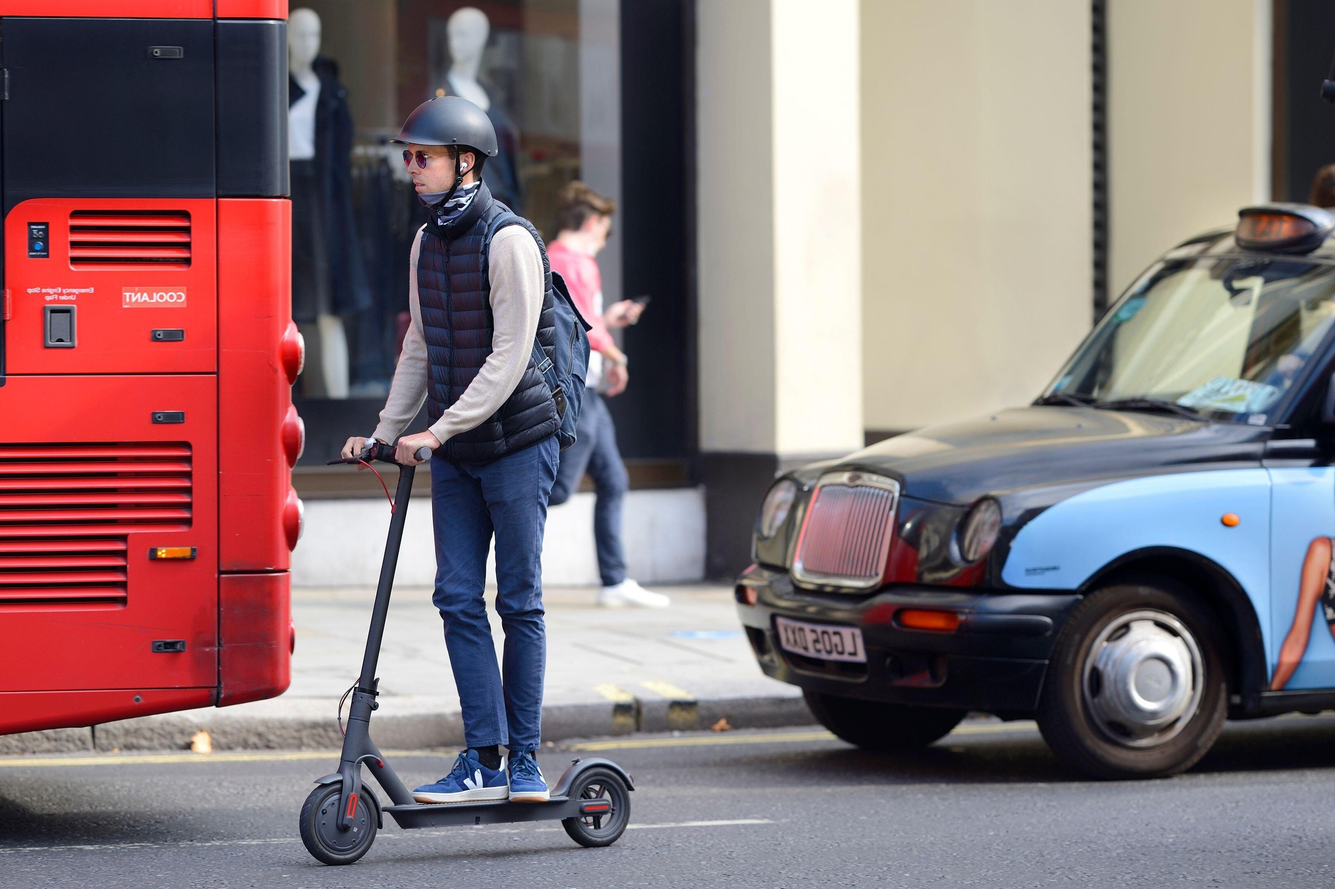helmet: (400, 96, 498, 212)
human: (353, 101, 564, 778)
kickboard: (301, 781, 628, 858)
